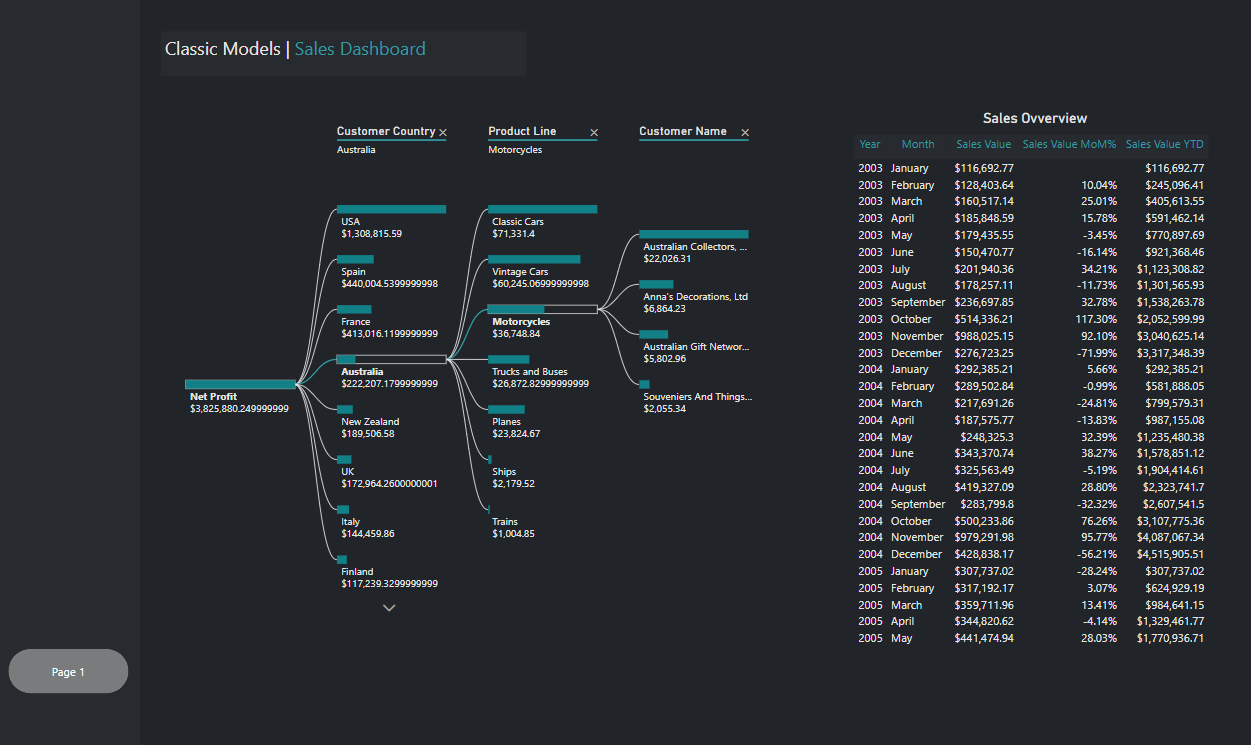

The page's visual inventory and layout, read from the dashboard file:
{"tool":"powerbi","page":{"name":"Sales Overview - Page 2","canvas":[1500,900],"ordinal":1},"visuals":[{"type":"shape","box":[0,0,170,900.5],"z":0},{"type":"decompositionTreeVisual","fields":{"Analyze":["classicmodels sales_report_for_power_bi.Net Profit"],"ExplainBy":["classicmodels sales_report_for_power_bi.customer_country","classicmodels sales_report_for_power_bi.productLine","classicmodels sales_report_for_power_bi.customerName"]},"box":[195,136.7,718.3,631.7],"z":1000},{"type":"textbox","box":[195,43.3,435,53.3],"z":2000},{"type":"tableEx","title":"Sales Ovverview","fields":{"Values":["classicmodels sales_report_for_power_bi.orderDate.Variation.Date Hierarchy.Year","classicmodels sales_report_for_power_bi.orderDate.Variation.Date Hierarchy.Month","Sum(classicmodels sales_report_for_power_bi.sales_value)","Table.sales_value MoM%","Table.sales_value YTD"]},"box":[1013.3,136.7,445,648.3],"z":3000},{"type":"actionButton","title":"Sales","box":[13.3,778.3,143.3,53.3],"z":4000}]}

Visuals, with their boxes in screenshot pixels (x1, y1, x2, y2), scaled from the page's 1500x900 canvas onto the 1251x745 screenshot:
shape: region(0, 0, 142, 744)
decompositionTreeVisual - classicmodels sales_report_for_power_bi.Net Profit x classicmodels sales_report_for_power_bi.customer_country: region(163, 113, 762, 636)
textbox: region(163, 36, 525, 80)
"Sales Ovverview" tableEx: region(845, 113, 1216, 650)
"Sales" actionButton: region(11, 644, 131, 688)
